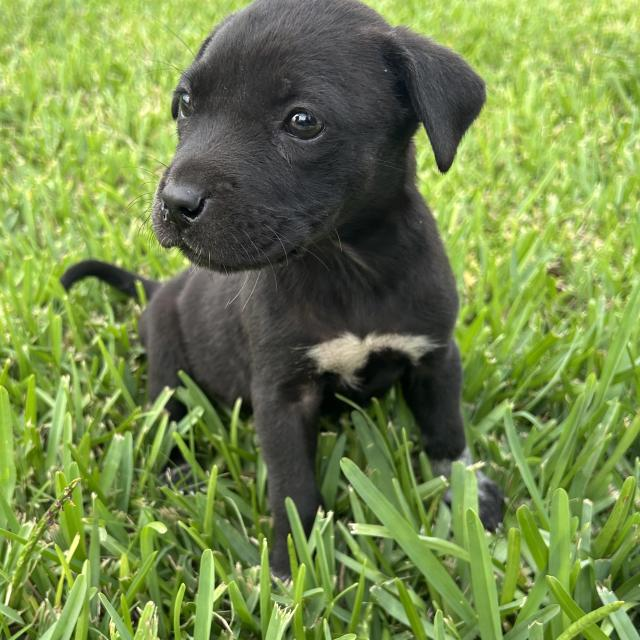labrador_retriever_dog: (136, 0, 496, 284)
